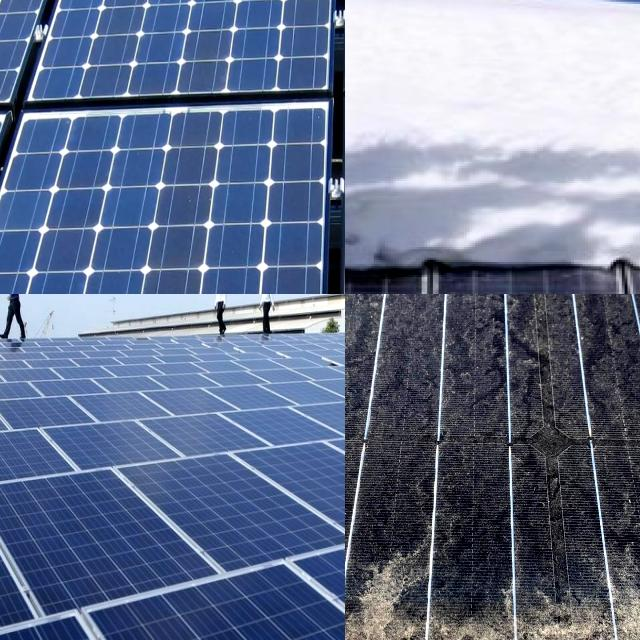crack: (206, 426, 345, 569), (42, 408, 182, 488), (137, 398, 277, 476), (39, 500, 138, 596), (213, 395, 345, 464), (108, 520, 195, 610), (64, 380, 184, 442), (0, 379, 101, 448), (189, 474, 262, 556), (0, 429, 77, 501), (232, 500, 296, 582), (90, 182, 168, 245), (285, 380, 345, 461), (34, 183, 118, 238), (0, 397, 65, 458), (154, 183, 230, 234), (135, 609, 252, 640), (190, 265, 293, 294), (125, 262, 218, 294), (0, 193, 56, 234), (256, 265, 333, 294), (246, 611, 317, 640)
dust: (470, 294, 640, 478), (392, 533, 612, 640), (345, 294, 461, 485), (345, 536, 439, 640)
panel: (345, 99, 640, 279)
